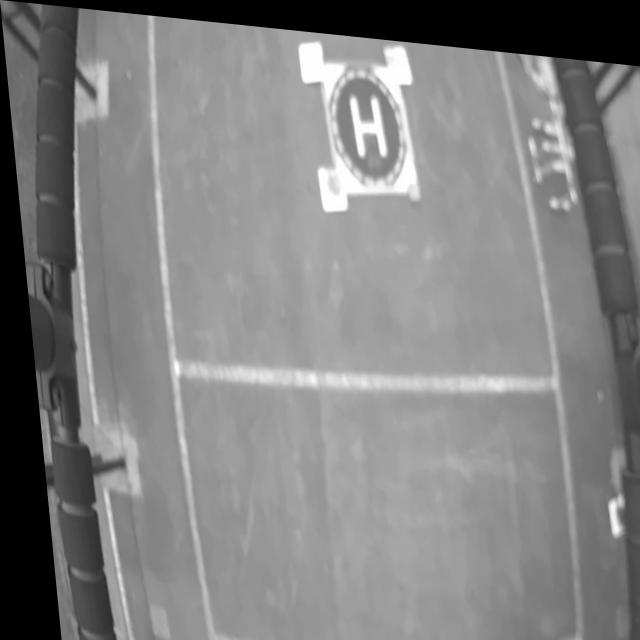Helipad: (348, 86, 387, 152)
